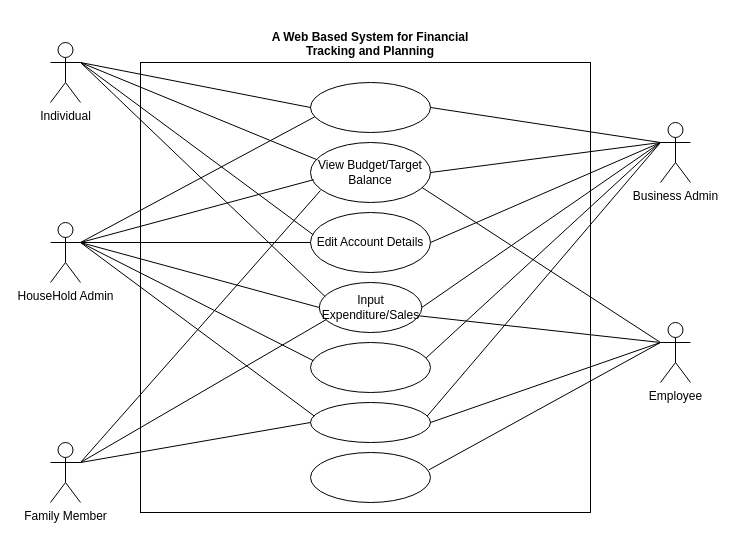
The diagram is 735 pixels wide and 540 high, and some of its shapes have lost their labels. Each missing label, with the centre of its shape:
"Add new accounts" goes at pixel 370 367.
"Input Budget/Target" goes at pixel 370 107.
"Report Corruption Instances" goes at pixel 370 477.
"View Allocated Budget" goes at pixel 370 422.
